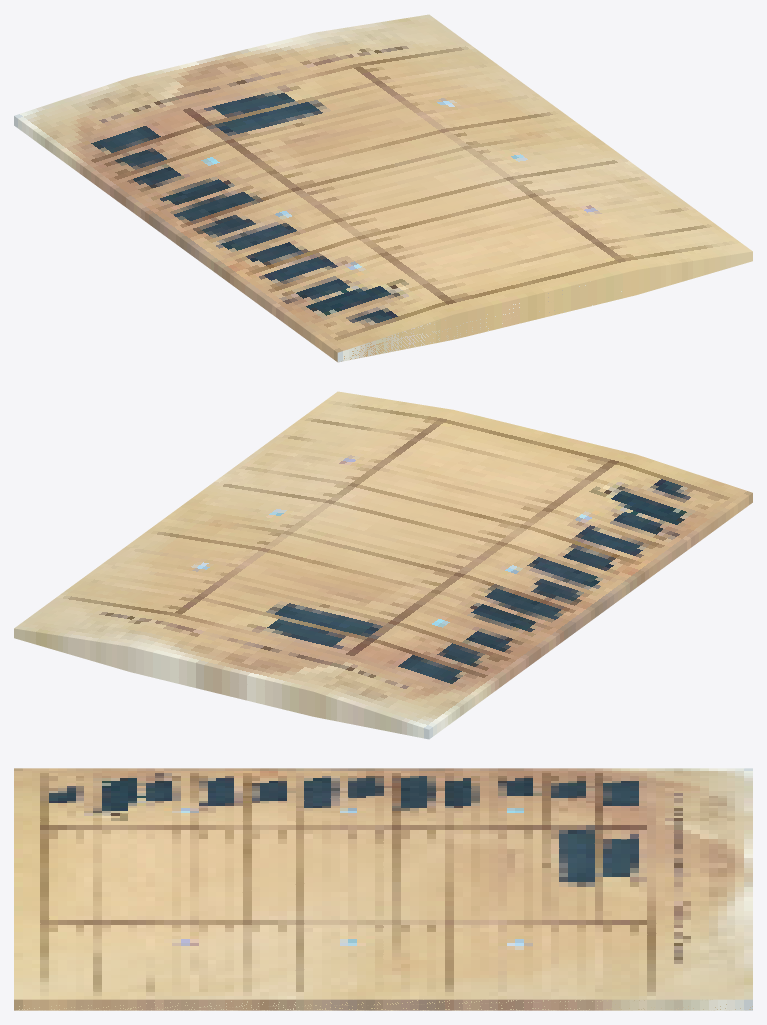
The model's file is papers_envolope_redacted.glb.
The picture shows the model from 3 angles, top to bottom: view 1: azimuth 30°, elevation 25°; view 2: azimuth 150°, elevation 25°; view 3: azimuth 270°, elevation 25°; orthographic projection. The views are drawn at different scales.
Visible parts, largest first — view 1: Envolope_Redacted; view 2: Envolope_Redacted; view 3: Envolope_Redacted.
Boxes of the visible parts, box(x1,y1,x2,y2) form: Envolope_Redacted: box(14, 14, 752, 362); Envolope_Redacted: box(14, 391, 752, 739); Envolope_Redacted: box(14, 768, 752, 1010).
Size of the model in its own units: 0.2141 by 0.0124 by 0.2892.
1 material, 1 textured.
